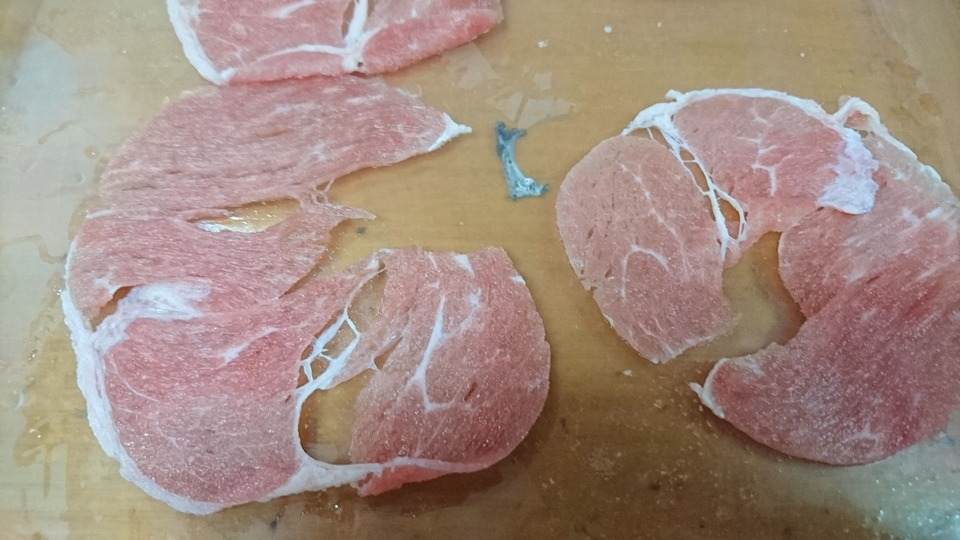restructured meat: (79, 84, 549, 519), (553, 91, 955, 462), (157, 1, 512, 82)
